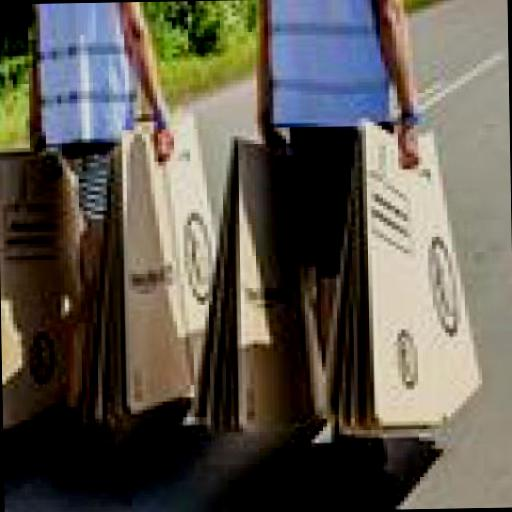cardboard: (322, 112, 491, 434), (82, 104, 218, 424), (198, 131, 319, 433), (2, 148, 79, 430)
